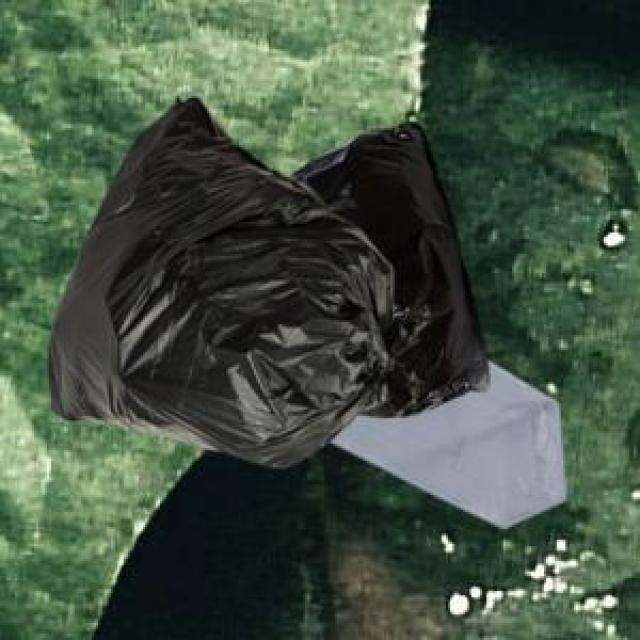miscellaneous trash: (47, 94, 427, 463), (288, 117, 484, 414)
